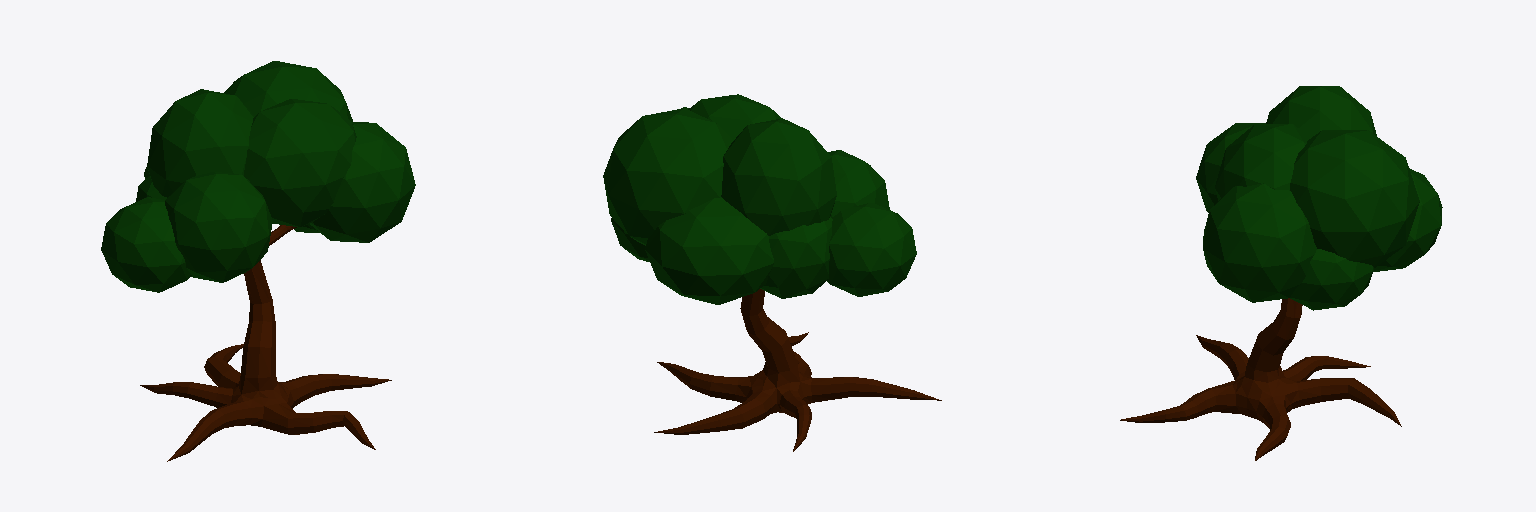
Rendered from Normal_tree.obj.
The picture shows the model from 3 angles: view 1: azimuth 30°, elevation 25°; view 2: azimuth 150°, elevation 25°; view 3: azimuth 270°, elevation 25°; orthographic projection.
Visible parts, largest first — view 1: Normal_tree_Vert.003; view 2: Normal_tree_Vert.003; view 3: Normal_tree_Vert.003.
Boxes of the visible parts, x1,y1,x2,y2 form: Normal_tree_Vert.003: [101, 61, 415, 461]; Normal_tree_Vert.003: [603, 94, 941, 451]; Normal_tree_Vert.003: [1120, 86, 1442, 460].
Size of the model in its own units: 11.34 by 11.74 by 11.11.